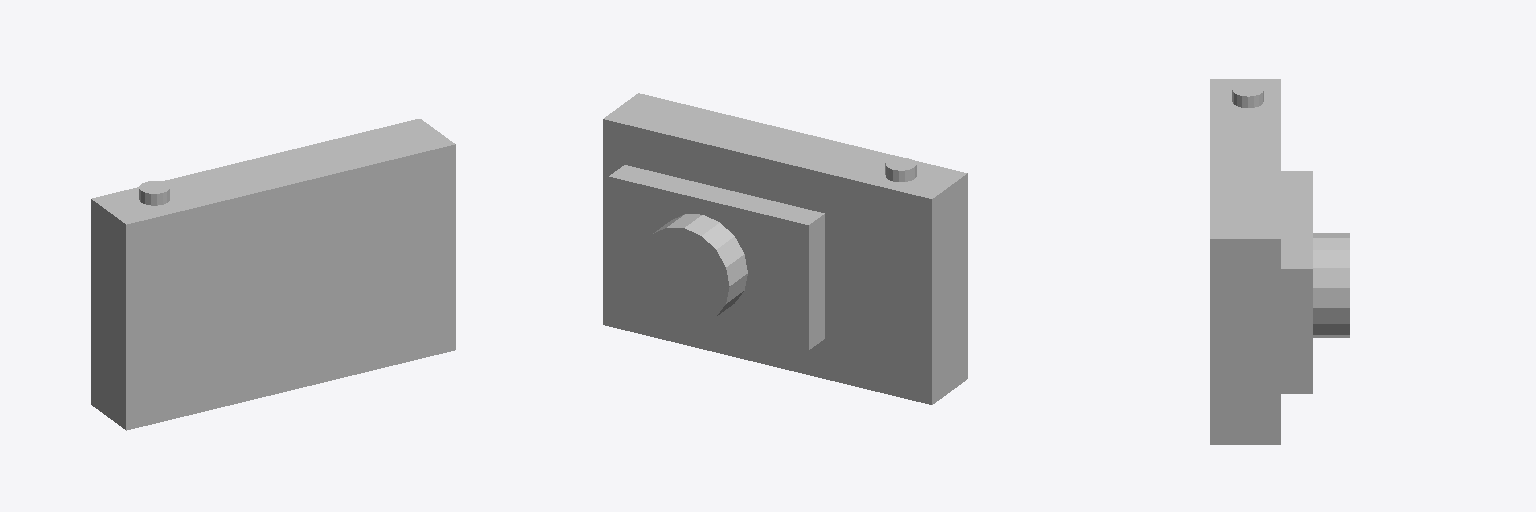
File: orange.obj
3 renders of one model, left to right at view 1: azimuth 30°, elevation 25°; view 2: azimuth 150°, elevation 25°; view 3: azimuth 270°, elevation 25°, orthographic.
Visible parts, largest first — view 1: Photo; view 2: Photo; view 3: Photo.
Part boxes in pixels (x1,y1,x2,y2): Photo: (91,119,455,430); Photo: (603,93,967,404); Photo: (1210,79,1349,444).
Size of the model in its own units: 59.55 by 37.62 by 21.96.